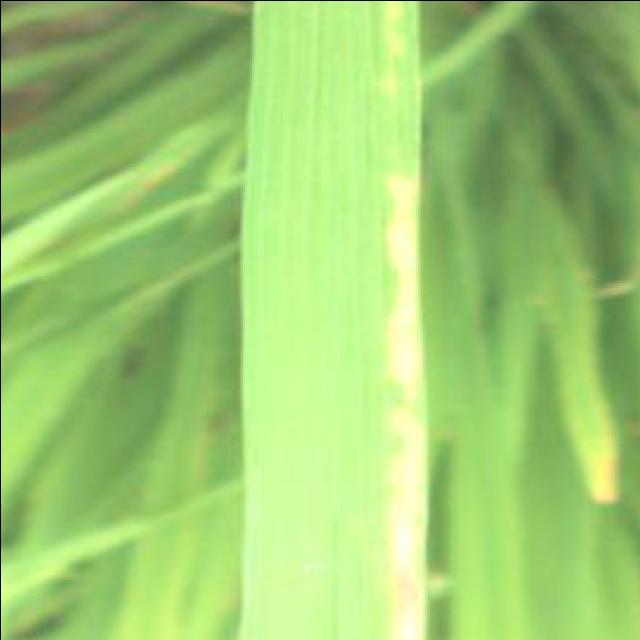Bacterial_Leaf_Blight: (230, 0, 422, 640)
